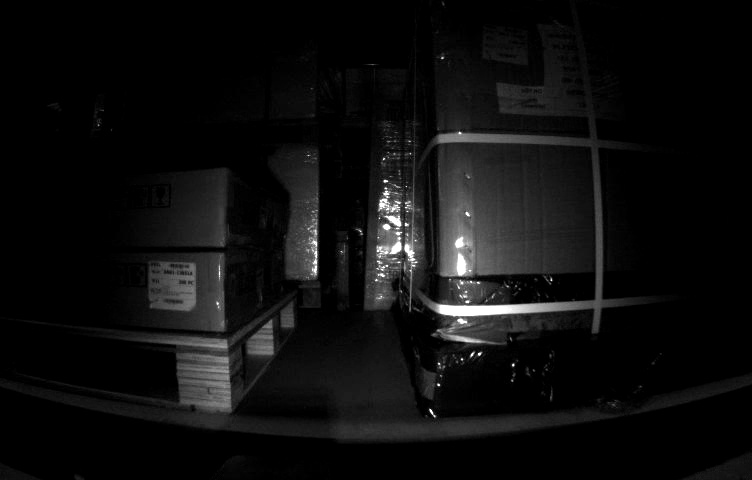True Barcode: (149, 261, 196, 311), (480, 19, 529, 66)
